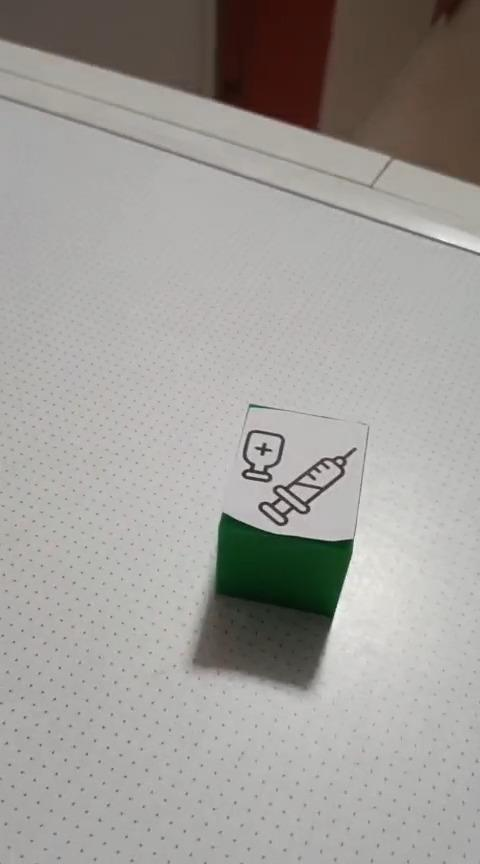antiseptic cream: (213, 402, 370, 619)
